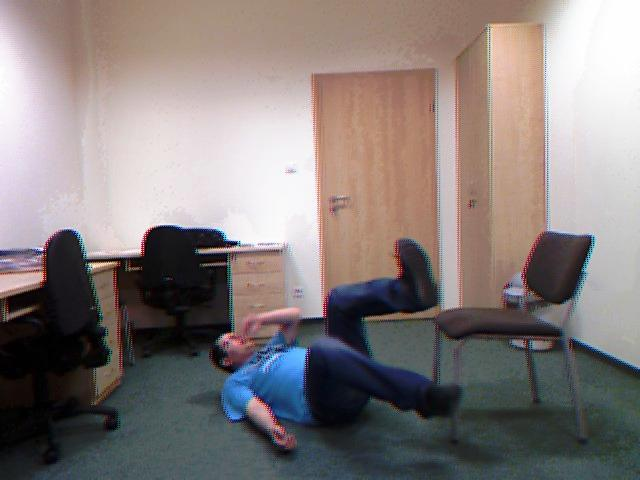fall: (210, 235, 469, 470)
